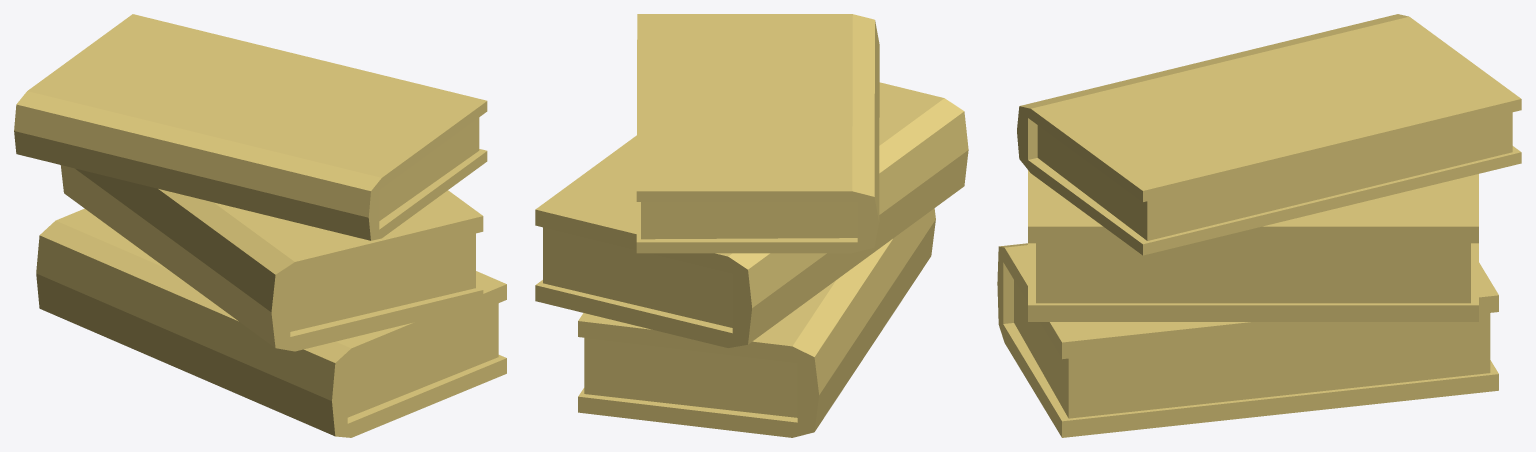
The model's file is Book Stack.002.fbx.
The picture shows the model from 3 angles, left to right: view 1: azimuth 30°, elevation 25°; view 2: azimuth 150°, elevation 25°; view 3: azimuth 270°, elevation 25°; orthographic projection. The views are drawn at different scales.
Parts seen in each view (by area): view 1: Book Stack.002; view 2: Book Stack.002; view 3: Book Stack.002.
Part boxes in pixels (x1,y1,x2,y2): Book Stack.002: (14,14,506,437); Book Stack.002: (535,14,968,437); Book Stack.002: (997,14,1521,437).
Bounding box in the file's own units: 39.77 × 25.77 × 47.7.
